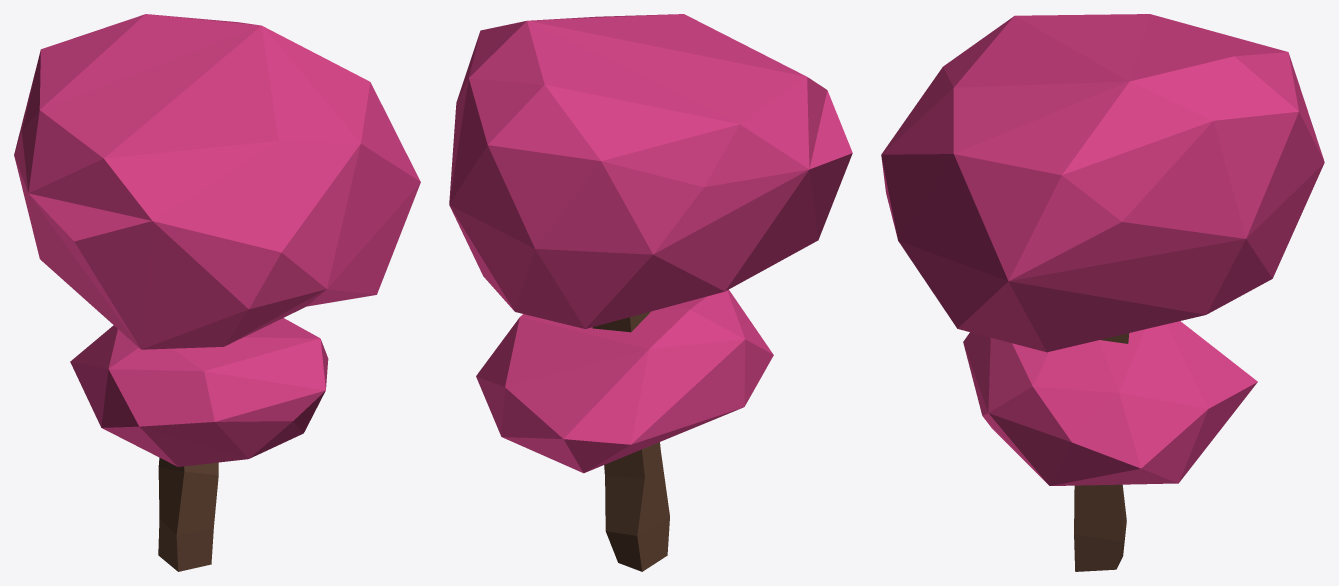
The model's file is Tree_52_Pink.fbx.
3 views of the same model, side by side, from view 1: azimuth 30°, elevation 25°; view 2: azimuth 150°, elevation 25°; view 3: azimuth 270°, elevation 25° (orthographic). The views are drawn at different scales.
Visible parts, largest first — view 1: Tree_52_Pink_Part_1, Tree_52_Pink_Part_2; view 2: Tree_52_Pink_Part_1, Tree_52_Pink_Part_2; view 3: Tree_52_Pink_Part_1, Tree_52_Pink_Part_2.
Boxes of the visible parts, box(x1,y1,x2,y2) form: Tree_52_Pink_Part_1: box(14, 14, 420, 466); Tree_52_Pink_Part_2: box(158, 457, 218, 571); Tree_52_Pink_Part_1: box(449, 14, 852, 473); Tree_52_Pink_Part_2: box(592, 311, 669, 571); Tree_52_Pink_Part_1: box(881, 14, 1324, 485); Tree_52_Pink_Part_2: box(1074, 333, 1129, 571).
Bounding box in the file's own units: 447 × 607 × 461.
